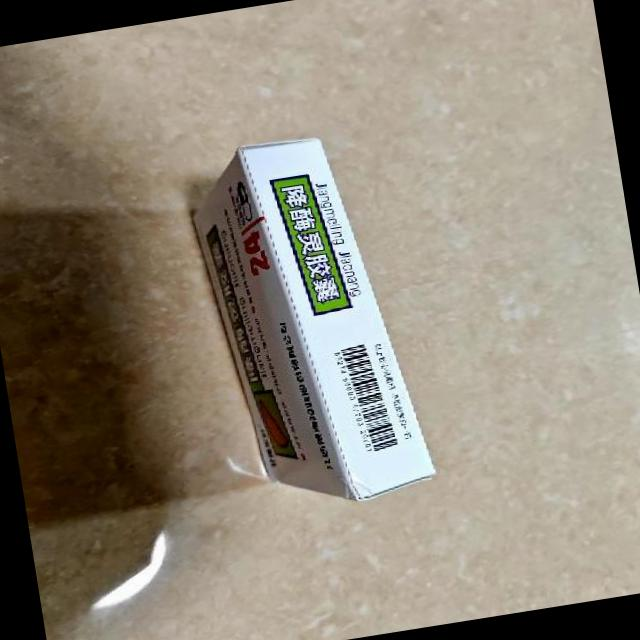box: (184, 124, 440, 522)
